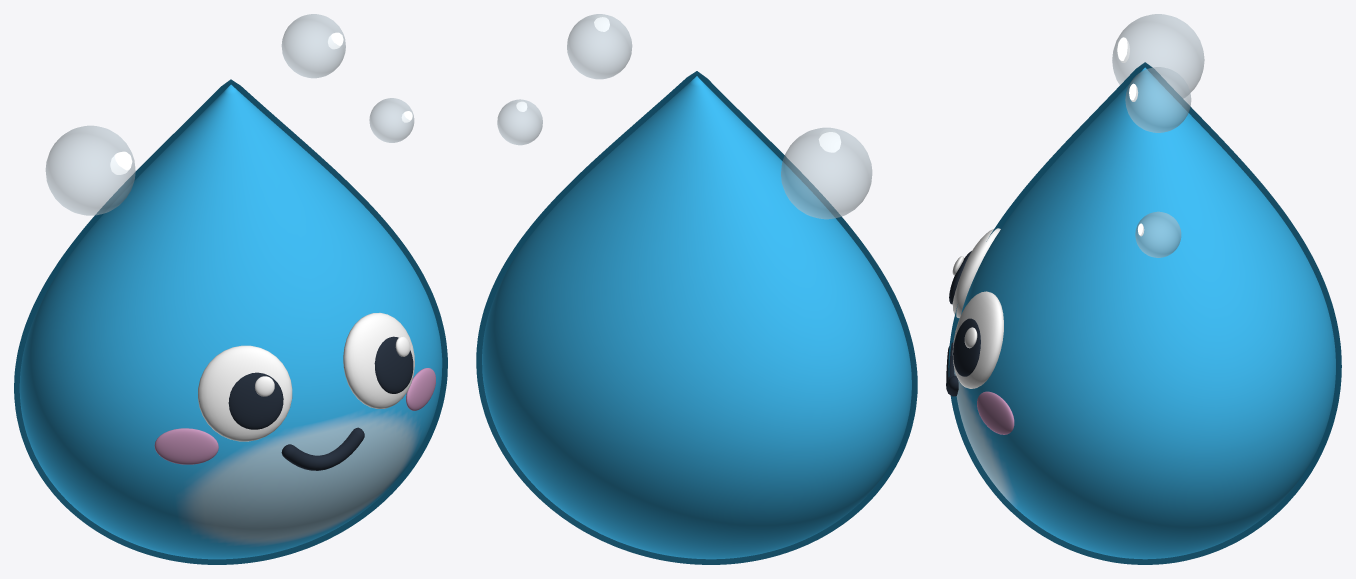
The model's file is bubble.glb.
3 renders of one model, left to right at view 1: azimuth 30°, elevation 25°; view 2: azimuth 150°, elevation 25°; view 3: azimuth 270°, elevation 25°, orthographic. The views are drawn at different scales.
Visible parts, largest first — view 1: body, bubble, eye_white, eye_white.001, bubble.001, eye_pupil, cheek, eye_pupil.001, bubble.002, mouth, cheek.001; view 2: body, bubble, bubble.001, bubble.002; view 3: body, bubble, bubble.001, eye_white.001, bubble.002, eye_white, cheek.001, eye_pupil.001.
Boxes of the visible parts, x1,y1,x2,y2 form: body: [14, 79, 447, 564]; bubble: [45, 125, 135, 215]; eye_white: [198, 345, 292, 441]; eye_white.001: [343, 312, 414, 408]; bubble.001: [281, 14, 345, 78]; eye_pupil: [228, 372, 283, 429]; cheek: [154, 428, 218, 464]; eye_pupil.001: [374, 336, 413, 393]; bubble.002: [369, 98, 414, 142]; mouth: [281, 427, 364, 470]; cheek.001: [406, 368, 435, 410]; body: [476, 71, 917, 564]; bubble: [781, 127, 872, 219]; bubble.001: [567, 14, 632, 79]; bubble.002: [497, 99, 542, 145]; body: [948, 62, 1341, 564]; bubble: [1112, 14, 1204, 98]; bubble.001: [1125, 67, 1191, 132]; eye_white.001: [952, 291, 1003, 388]; bubble.002: [1135, 211, 1181, 257]; eye_white: [952, 228, 1000, 318]; cheek.001: [977, 391, 1014, 434]; eye_pupil.001: [953, 318, 980, 376].
Bounding box in the file's own units: 1.74 × 2.15 × 1.5.
